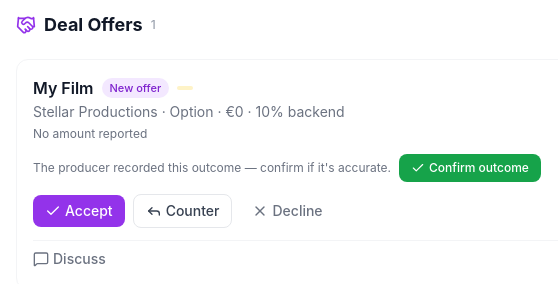
Test: CreatorDealInbox › accept posts the action then reloads
The width and height of the screenshot is (558, 284).
Expected: the text "My Film" is shown, [33,76,94,100]
Click the button "Accept".
click(79, 211)  # box [33,195,125,227]
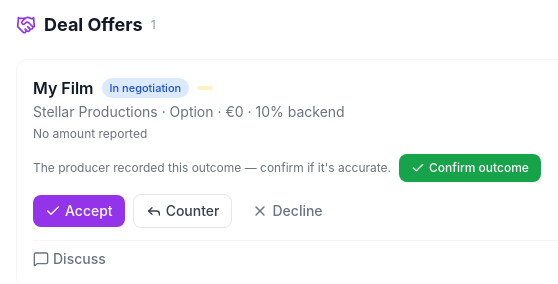
Expected: the text "In negotiation" is shown, [102,78,189,98]
